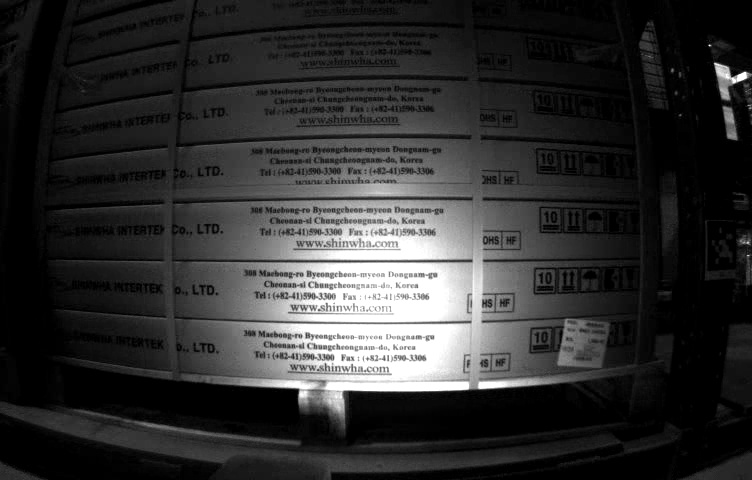True Barcode: (558, 316, 608, 372)
